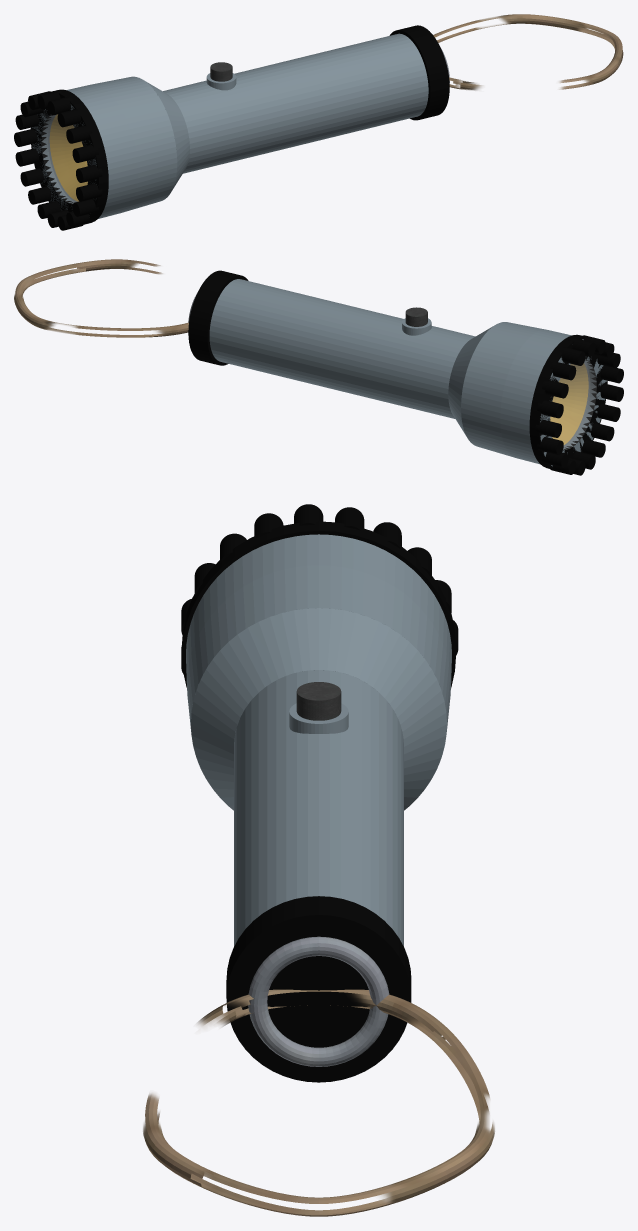
Rendered from Technology_Flashlight__0872.glb.
3 renders of one model, top to bottom at view 1: azimuth 30°, elevation 25°; view 2: azimuth 150°, elevation 25°; view 3: azimuth 270°, elevation 25°, orthographic. The views are drawn at different scales.
Visible parts, largest first — view 1: body::barrel_shell, body::head_shell, body::front_bezel_ring, strap::strap_loop, body::lens_disc, body::tail_cap, body::reflector, body::shoulder_shell, push_button::button_cap, body::bezel_tooth_7, body::bezel_tooth_8, body::bezel_tooth_9 (+9 smaller); view 2: body::barrel_shell, body::head_shell, strap::strap_loop, body::front_bezel_ring, body::lens_disc, body::tail_cap, body::reflector, body::shoulder_shell, push_button::button_cap, body::bezel_tooth_2, body::bezel_tooth_1, body::bezel_tooth_0 (+8 smaller); view 3: body::barrel_shell, body::shoulder_shell, body::head_shell, body::tail_cap, strap::strap_loop, body::tail_eyelet, body::front_bezel_ring, push_button::button_cap, body::button_boss.
Part boxes in pixels (bbox=[...]): body::barrel_shell: bbox=[163, 33, 428, 173]; body::head_shell: bbox=[32, 76, 177, 218]; body::front_bezel_ring: bbox=[30, 89, 108, 225]; strap::strap_loop: bbox=[433, 14, 623, 90]; body::lens_disc: bbox=[42, 114, 87, 203]; body::tail_cap: bbox=[389, 25, 449, 120]; body::reflector: bbox=[49, 114, 87, 201]; body::shoulder_shell: bbox=[144, 80, 189, 190]; push_button::button_cap: bbox=[210, 62, 232, 81]; body::bezel_tooth_7: bbox=[66, 125, 92, 143]; body::bezel_tooth_8: bbox=[72, 145, 98, 162]; body::bezel_tooth_9: bbox=[76, 165, 102, 182]; body::barrel_shell: bbox=[209, 279, 475, 418]; body::head_shell: bbox=[461, 322, 606, 466]; strap::strap_loop: bbox=[14, 259, 188, 337]; body::front_bezel_ring: bbox=[529, 334, 607, 468]; body::lens_disc: bbox=[550, 359, 596, 449]; body::tail_cap: bbox=[188, 270, 248, 365]; body::reflector: bbox=[550, 363, 588, 444]; body::shoulder_shell: bbox=[448, 326, 492, 435]; push_button::button_cap: bbox=[405, 307, 427, 326]; body::bezel_tooth_2: bbox=[542, 380, 568, 398]; body::bezel_tooth_1: bbox=[537, 400, 563, 418]; body::bezel_tooth_0: bbox=[535, 419, 561, 437]; body::barrel_shell: bbox=[234, 670, 403, 946]; body::shoulder_shell: bbox=[191, 608, 446, 810]; body::head_shell: bbox=[186, 534, 451, 774]; body::tail_cap: bbox=[226, 896, 411, 1082]; strap::strap_loop: bbox=[143, 989, 494, 1216]; body::tail_eyelet: bbox=[248, 936, 389, 1066]; body::front_bezel_ring: bbox=[182, 521, 455, 687]; push_button::button_cap: bbox=[296, 682, 341, 720]; body::button_boss: bbox=[289, 703, 348, 733].
Bounding box in the file's own units: 0.3541 × 0.075 × 0.0955.
8 materials, 4 textured.
